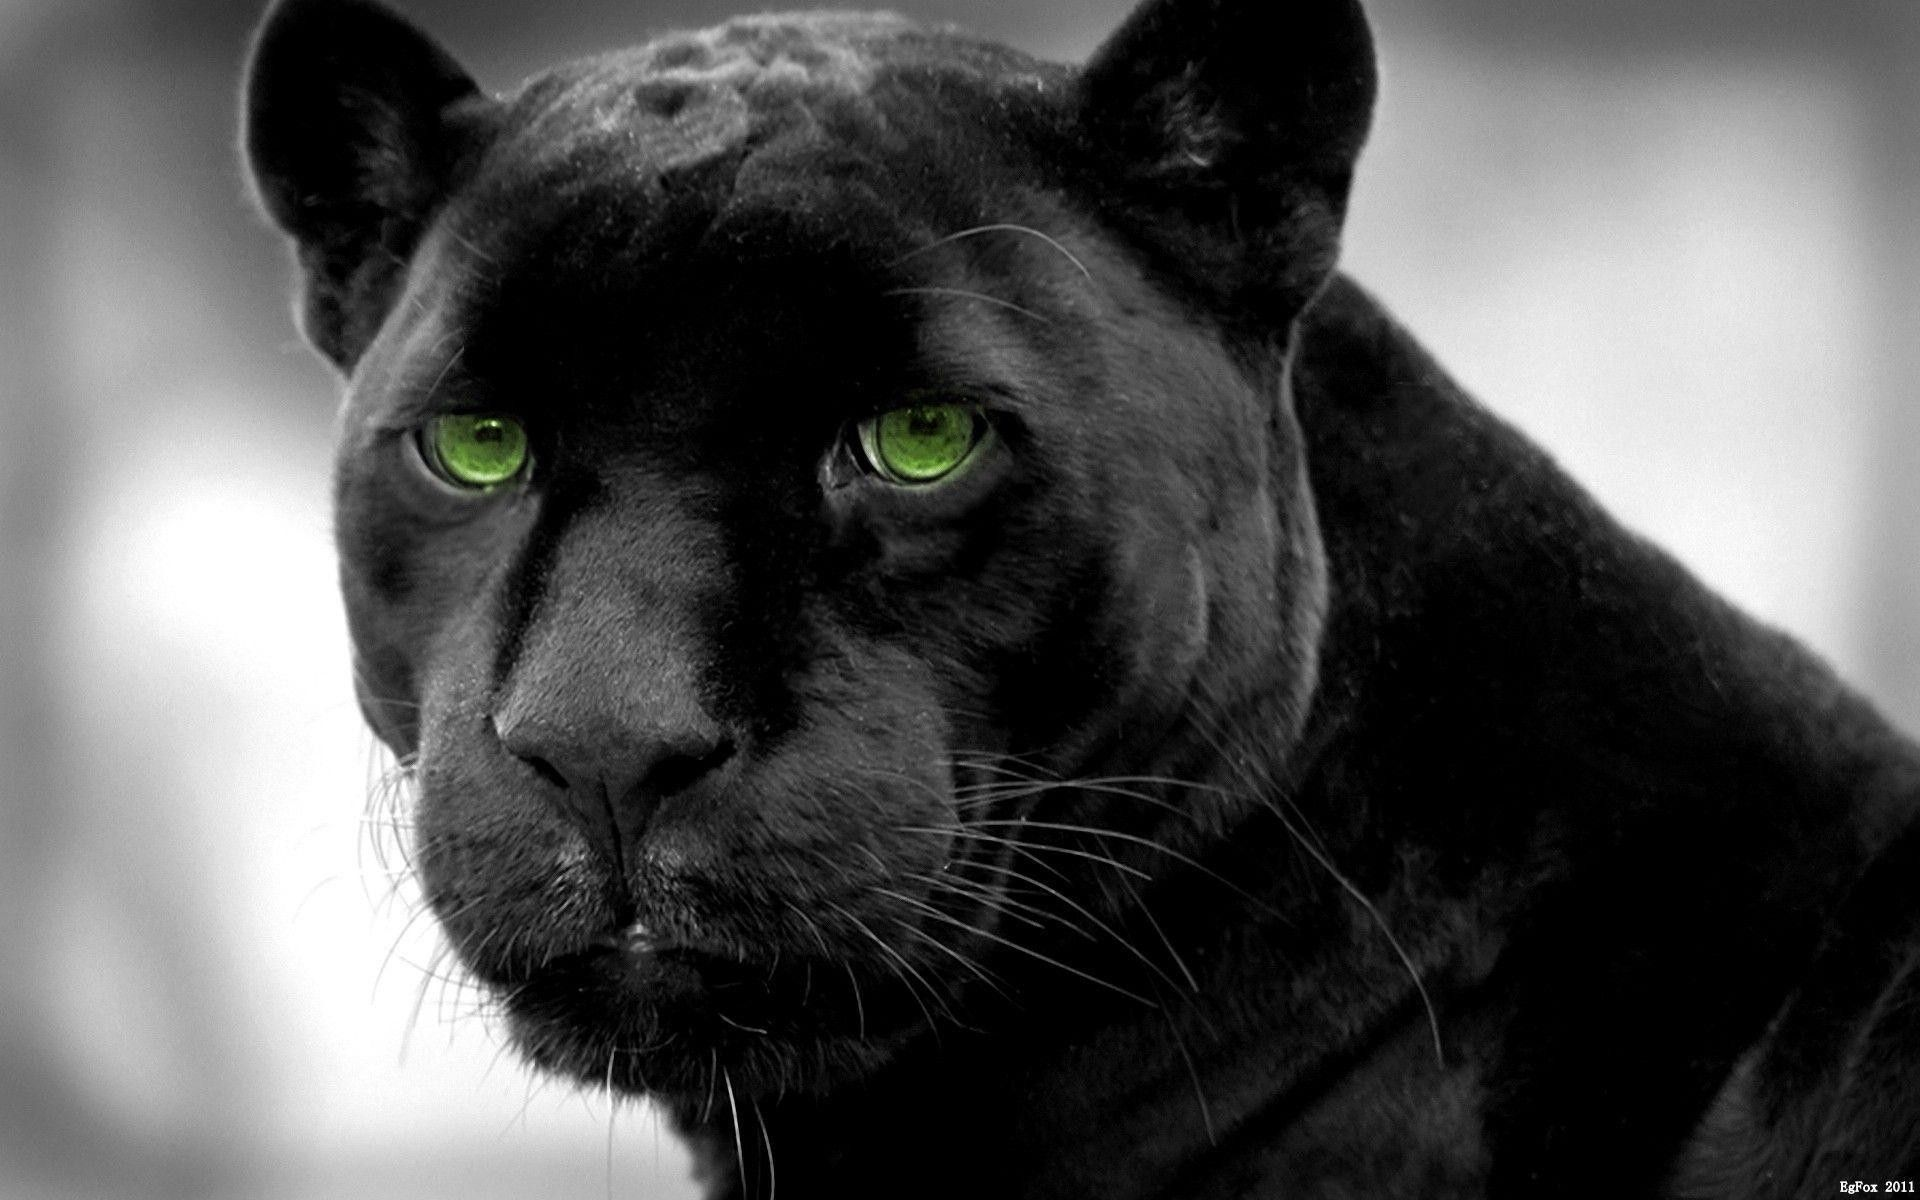panther: (188, 3, 1489, 1200)
